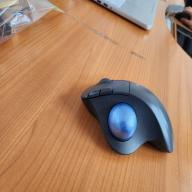mouse: (80, 78, 176, 156)
